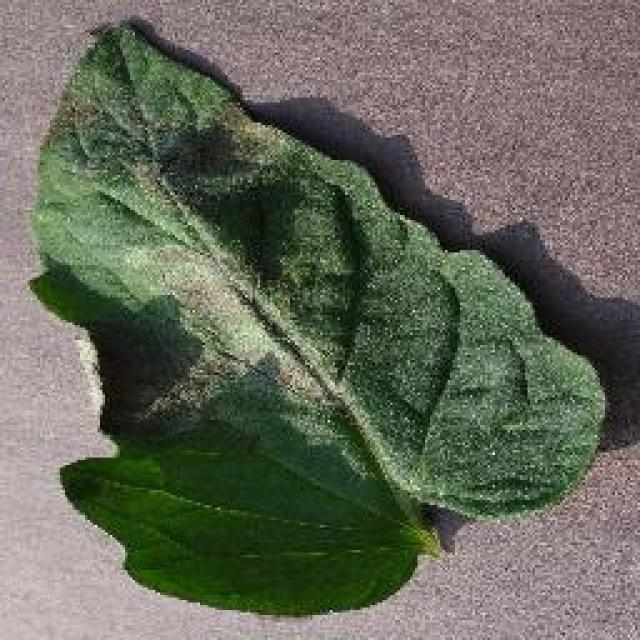Tomato Late Blight: (22, 35, 580, 433)
